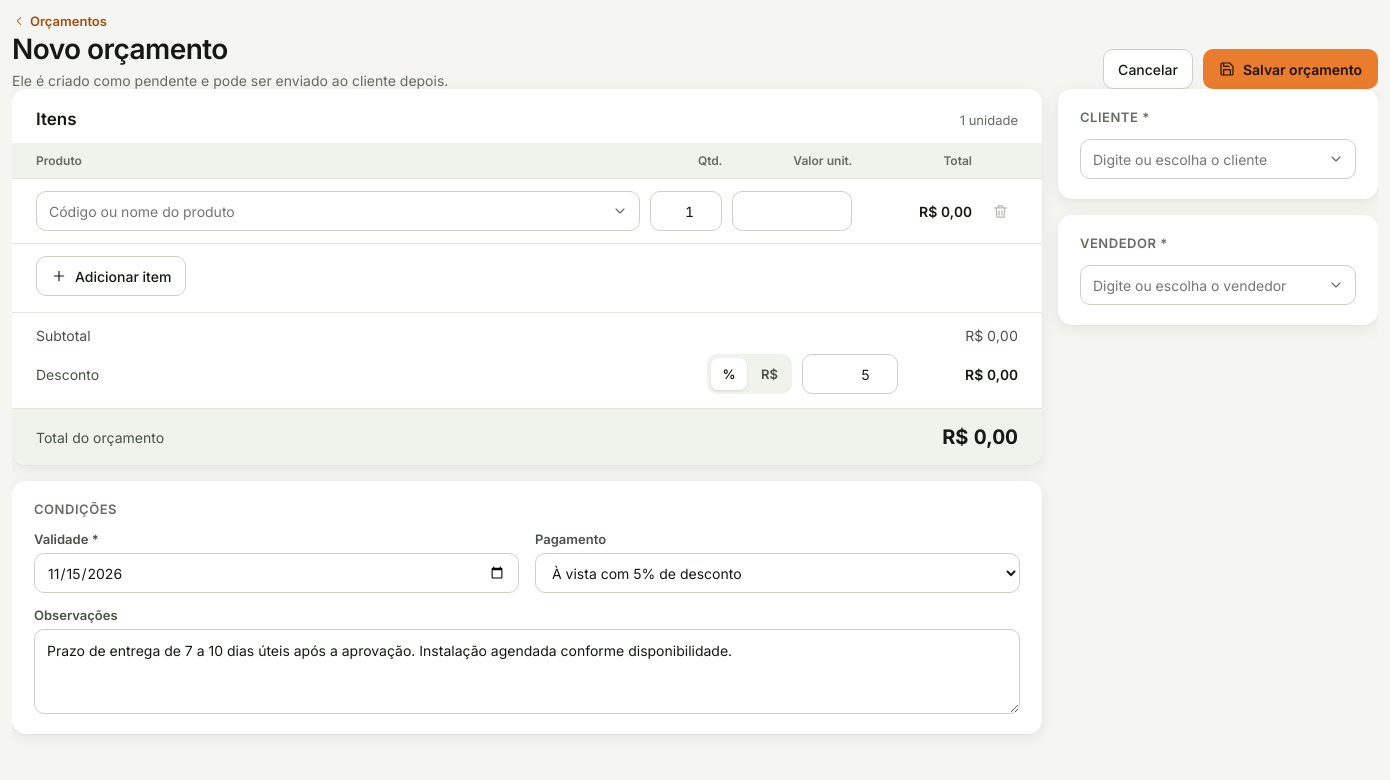
Test: catálogo vindo do cadastro de produtos › oferece um produto recém-cadastrado e esconde os inativos
Type "termostato" into the dropdown labelled "produto". click: (338, 211)
box: [36,191,640,231]
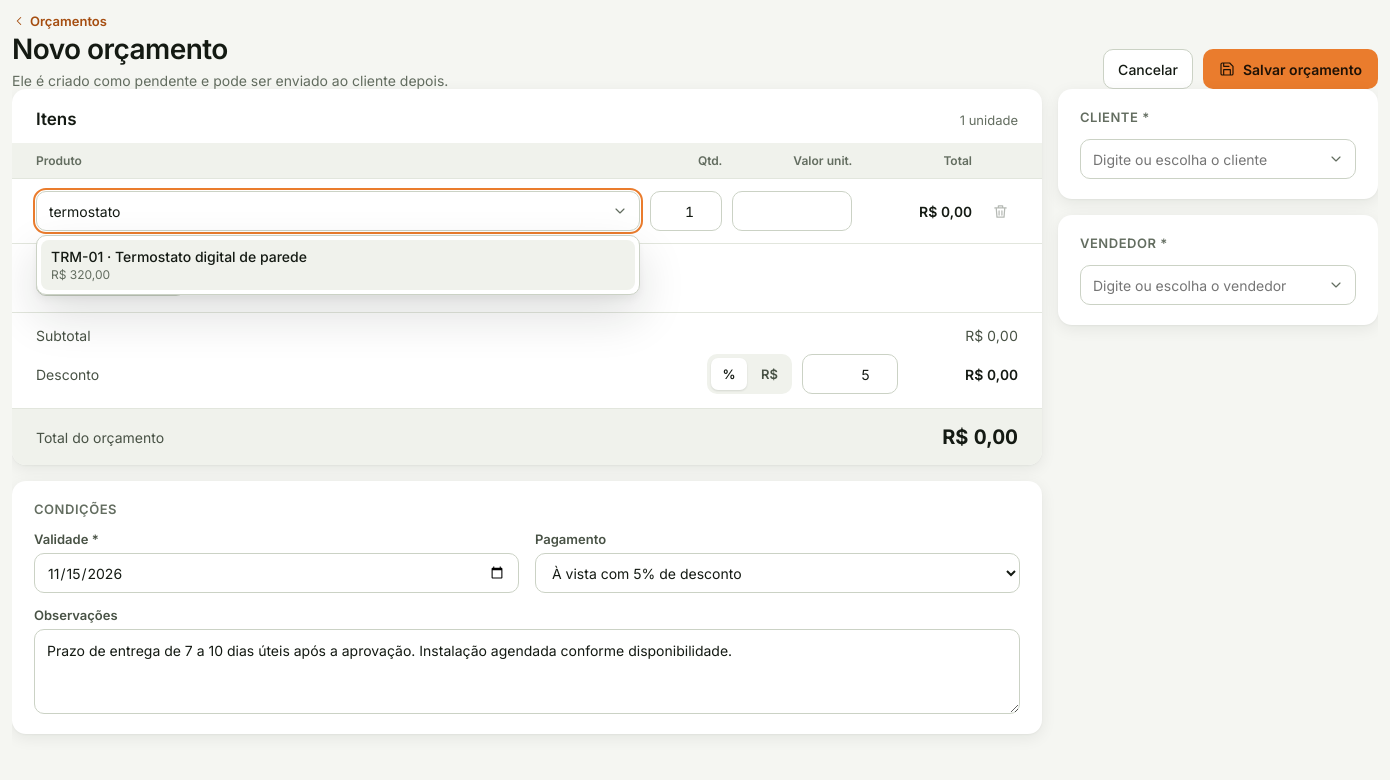
Expected: the option "TRM-01 · Termostato digital de parede R$ 320,00" is shown, [41,240,635,290]
Replace the text in the dropdown named "produto" with "AQG-15M". click: (338, 211)
box: [36,191,640,231]
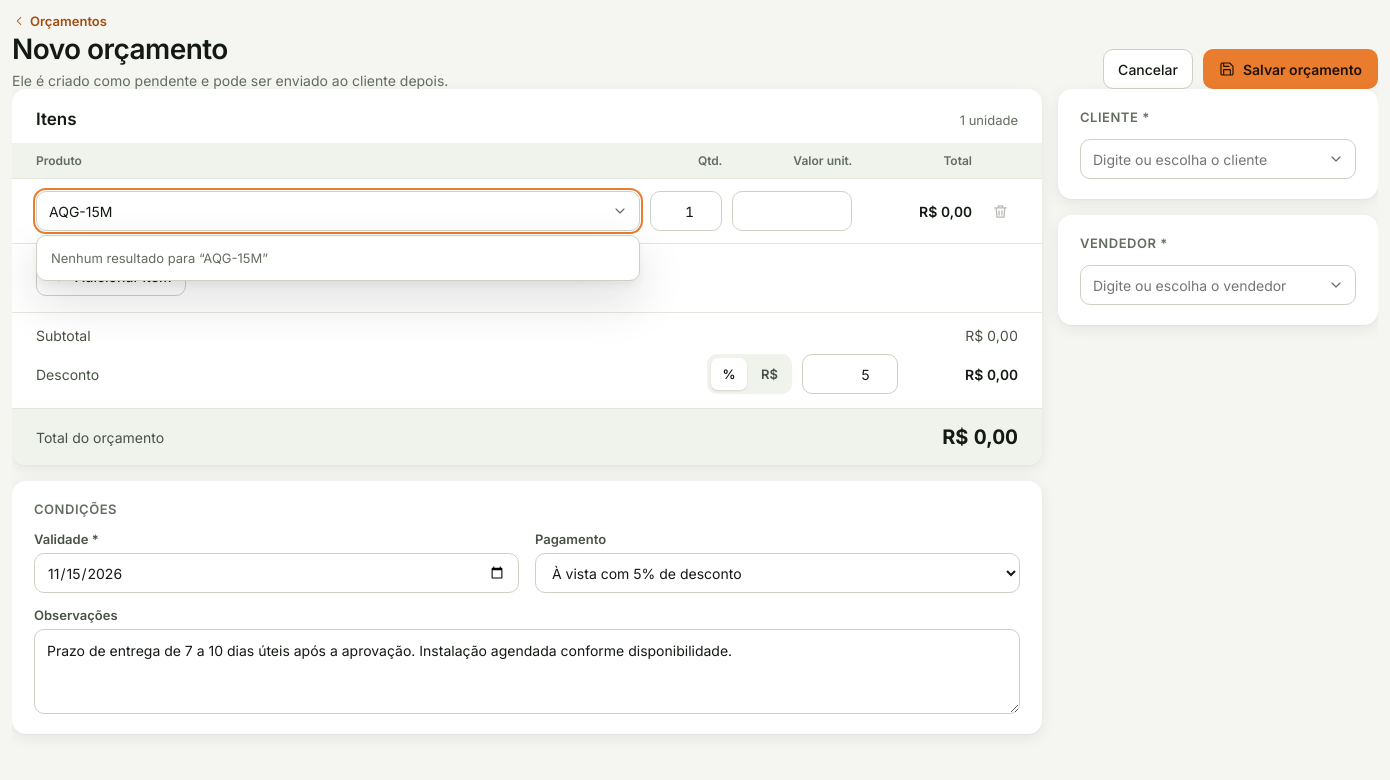
Expected: the list item "Nenhum resultado para “AQG-15M”" is shown, [51,250,268,266]
